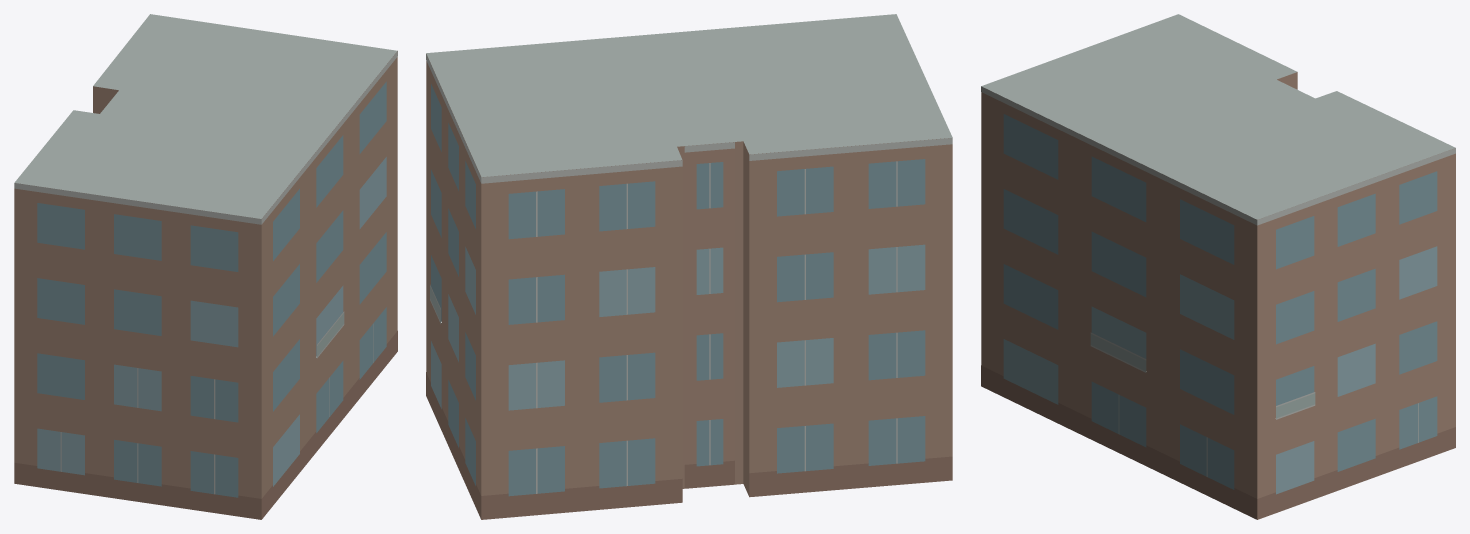
The model's file is survey-upis-32949563.glb.
3 views of the same model, side by side, from view 1: azimuth 30°, elevation 25°; view 2: azimuth 150°, elevation 25°; view 3: azimuth 270°, elevation 25° (orthographic). The views are drawn at different scales.
Visible parts, largest first — view 1: survey-upis-32949563.tmp; view 2: survey-upis-32949563.tmp; view 3: survey-upis-32949563.tmp.
Part boxes in pixels (x1,y1,x2,y2): survey-upis-32949563.tmp: [14, 14, 397, 519]; survey-upis-32949563.tmp: [426, 14, 952, 519]; survey-upis-32949563.tmp: [981, 14, 1455, 519].
Bounding box in the file's own units: 18.84 × 12.8 × 18.36.
